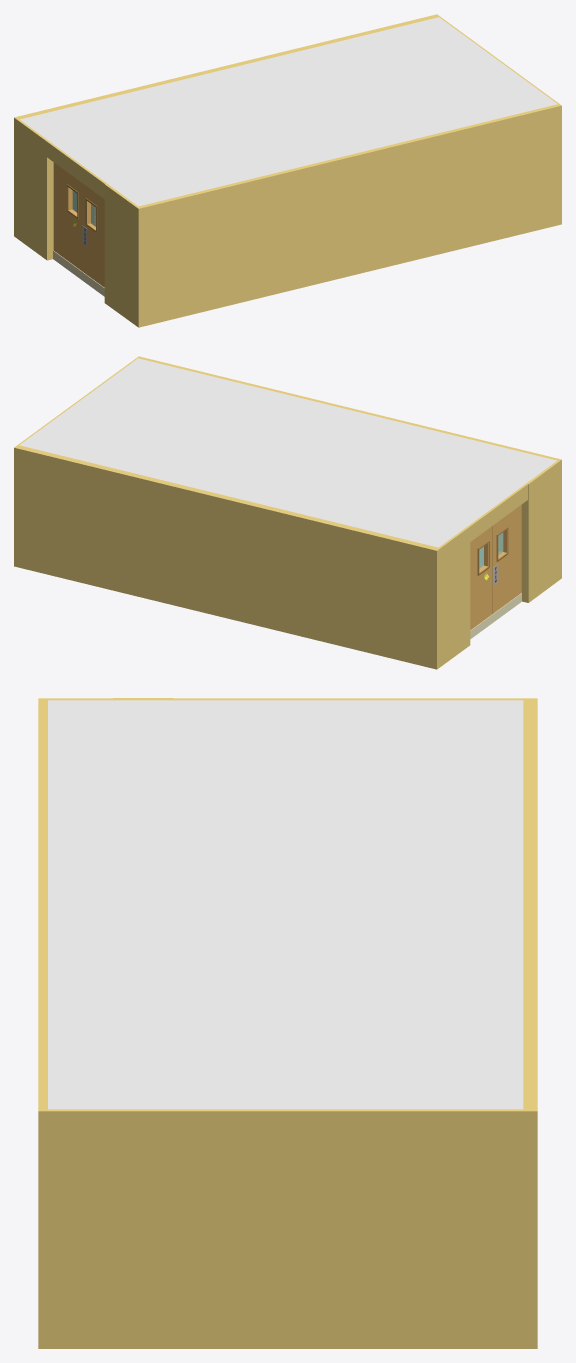
The model's file is room.glb.
3 views of the same model, one above another, from view 1: azimuth 30°, elevation 25°; view 2: azimuth 150°, elevation 25°; view 3: azimuth 270°, elevation 25° (orthographic). The views are drawn at different scales.
Visible parts, largest first — view 1: Walls, Ceilling, Door2, Door; view 2: Walls, Ceilling, Door, Door2; view 3: Ceilling, Walls.
Part boxes in pixels (<box>): Walls: <box>14,14,561,327</box>; Ceilling: <box>20,17,557,206</box>; Door2: <box>53,162,82,279</box>; Door: <box>82,184,104,296</box>; Walls: <box>14,356,561,669</box>; Ceilling: <box>19,358,556,547</box>; Door: <box>492,505,521,622</box>; Door2: <box>470,526,493,638</box>; Ceilling: <box>48,700,523,1109</box>; Walls: <box>38,698,537,1348</box>.
Bounding box in the file's own units: 18.77 × 5.05 × 9.58.
20 materials, 5 textured.
